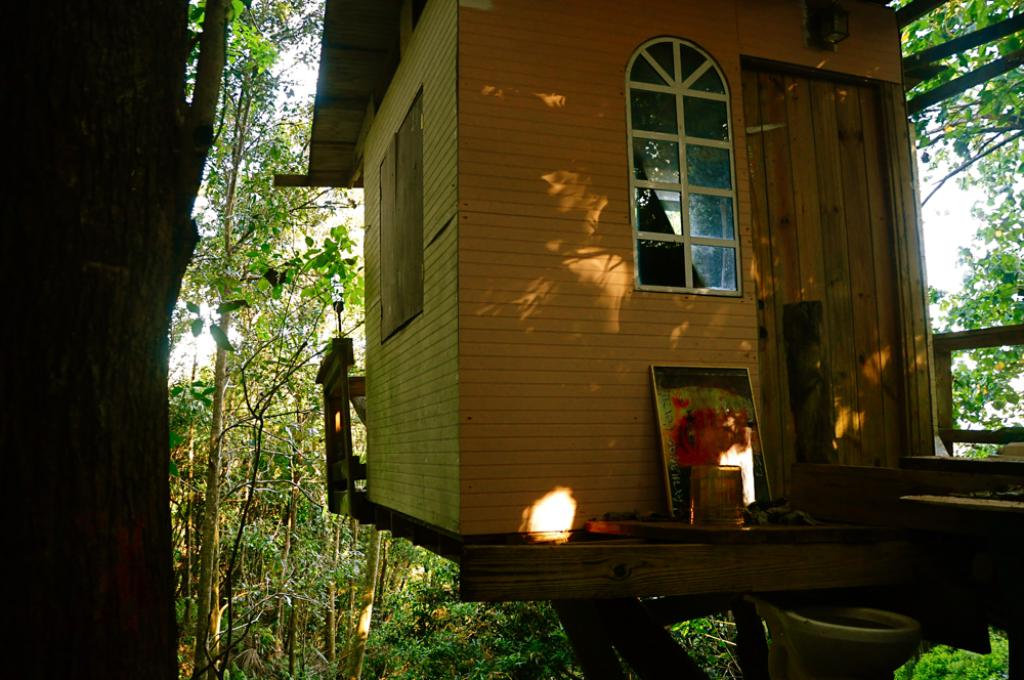Tree: (1, 2, 388, 680), (890, 0, 1024, 459)
